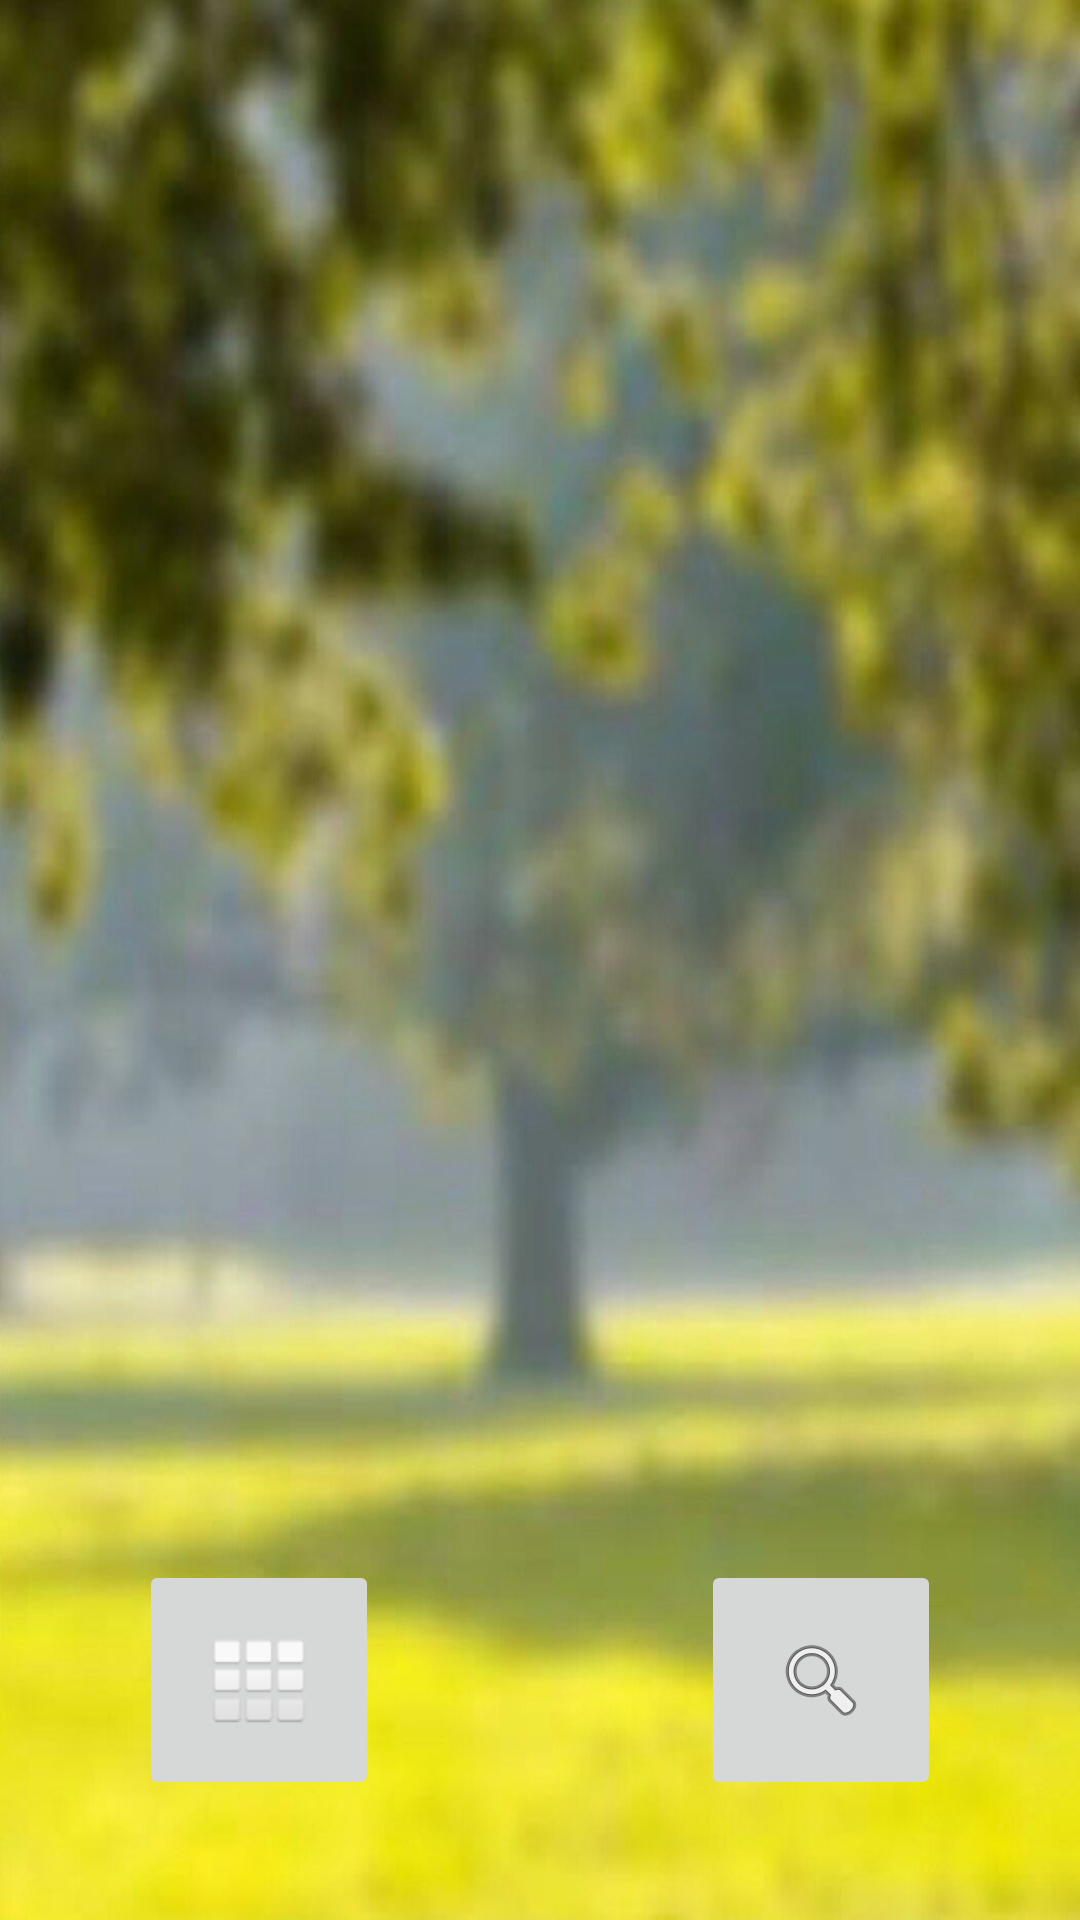

Icon click points for this 1080×1920 phone screenshot, format (x=x, y=y):
dialer: (x=259, y=1671)
search: (x=821, y=1680)
